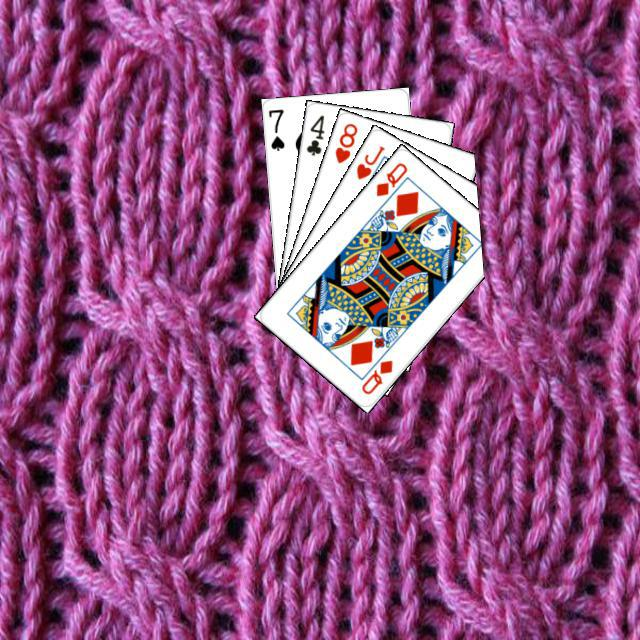4c: (301, 110, 326, 157)
7s: (263, 104, 286, 153)
8h: (330, 118, 359, 165)
Jh: (351, 141, 386, 181)
Qd: (356, 355, 394, 396), (371, 158, 409, 198)
